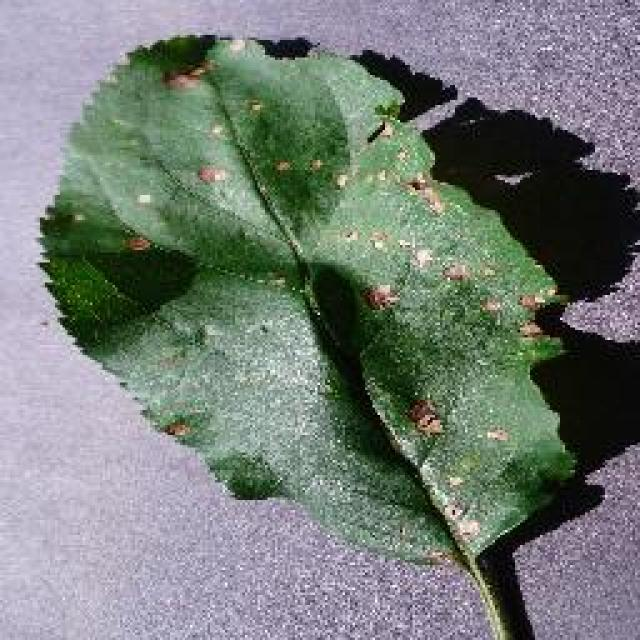apple healthy: (35, 28, 637, 638)
